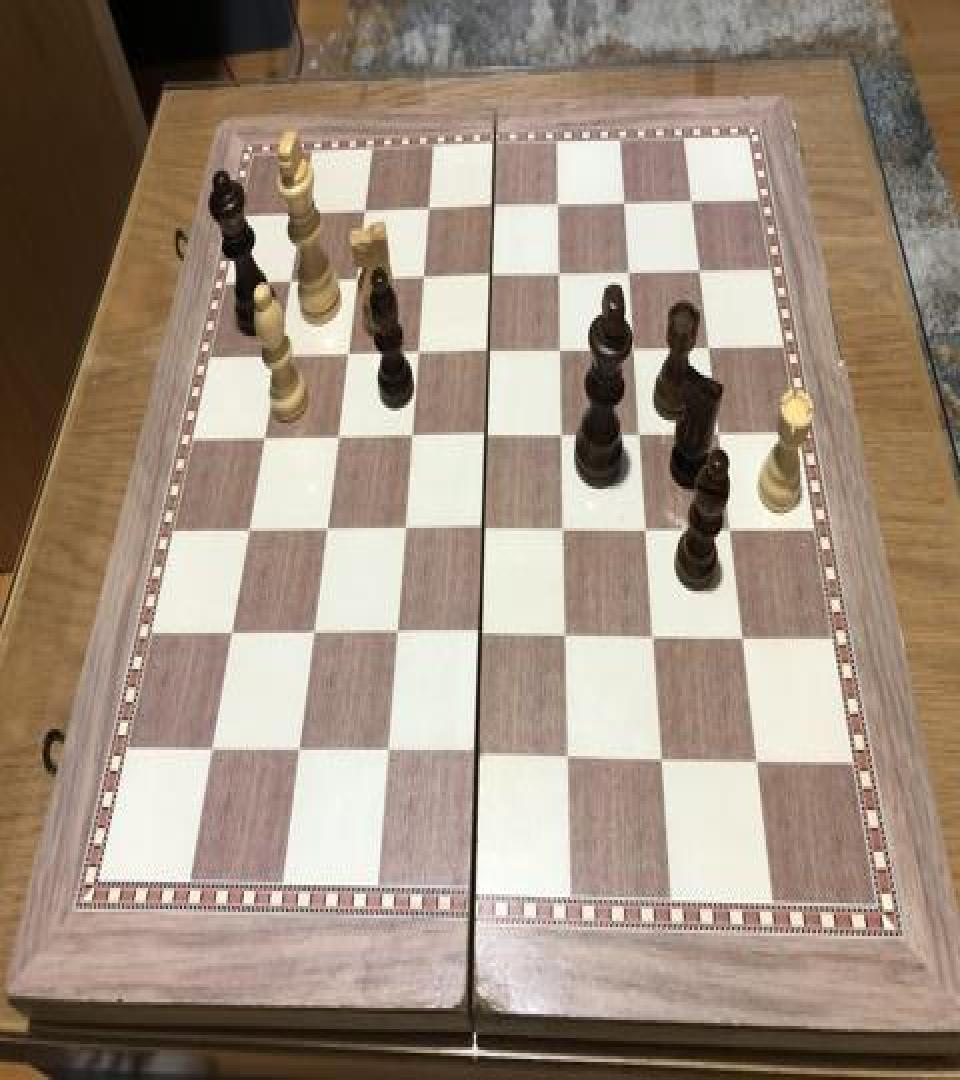xcorner: (717, 514, 741, 551), (633, 514, 657, 551), (551, 514, 575, 551), (729, 622, 753, 659), (217, 616, 241, 653), (462, 739, 486, 776), (197, 733, 221, 770), (680, 184, 704, 220), (613, 186, 637, 222), (480, 190, 504, 226), (416, 192, 440, 228), (352, 195, 376, 231), (289, 196, 313, 232), (688, 254, 712, 290), (617, 255, 641, 291), (547, 258, 571, 294), (410, 261, 434, 297), (343, 262, 367, 298), (277, 264, 301, 300), (697, 332, 721, 368), (622, 333, 646, 369), (548, 334, 572, 370), (476, 334, 500, 370), (404, 336, 428, 372), (334, 338, 358, 374), (264, 339, 288, 375), (706, 417, 730, 453), (627, 418, 651, 454), (549, 418, 573, 454), (473, 420, 497, 456), (398, 420, 422, 456), (323, 422, 347, 458), (250, 422, 274, 458), (470, 513, 494, 549), (390, 513, 414, 549), (312, 513, 336, 549), (235, 513, 259, 549), (640, 621, 664, 657), (552, 621, 576, 657), (466, 620, 490, 656), (382, 618, 406, 654), (299, 618, 323, 654), (743, 746, 767, 782), (648, 744, 672, 780), (554, 741, 578, 777), (372, 736, 396, 772), (284, 735, 308, 771), (546, 188, 570, 223), (478, 260, 502, 295)
